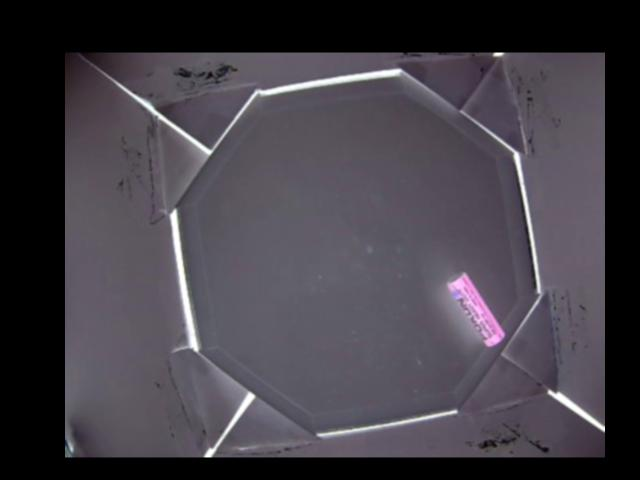Battery: (443, 273, 504, 347)
